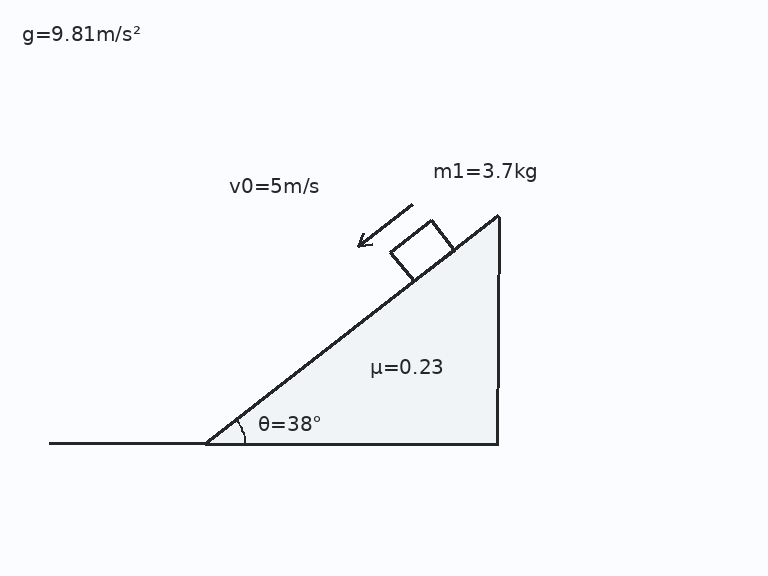block: (389, 218, 456, 283)
ramp: (203, 213, 500, 446)
